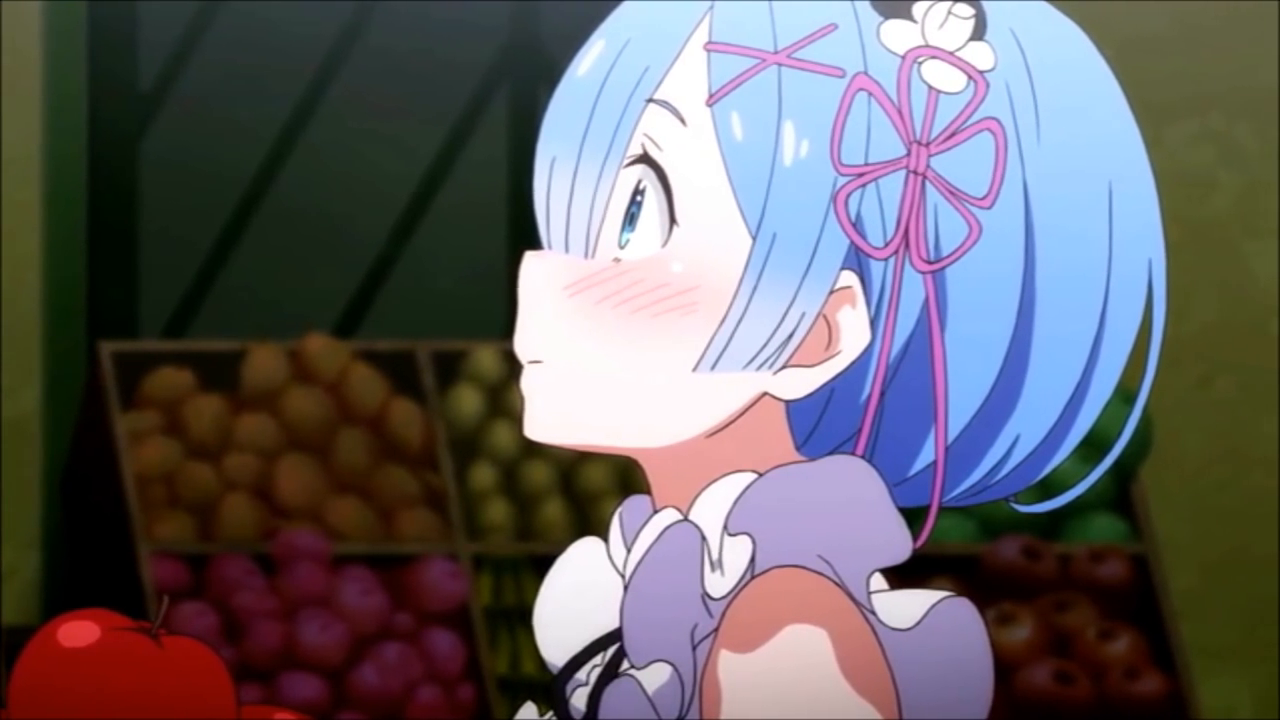REM: (485, 1, 1171, 514)
